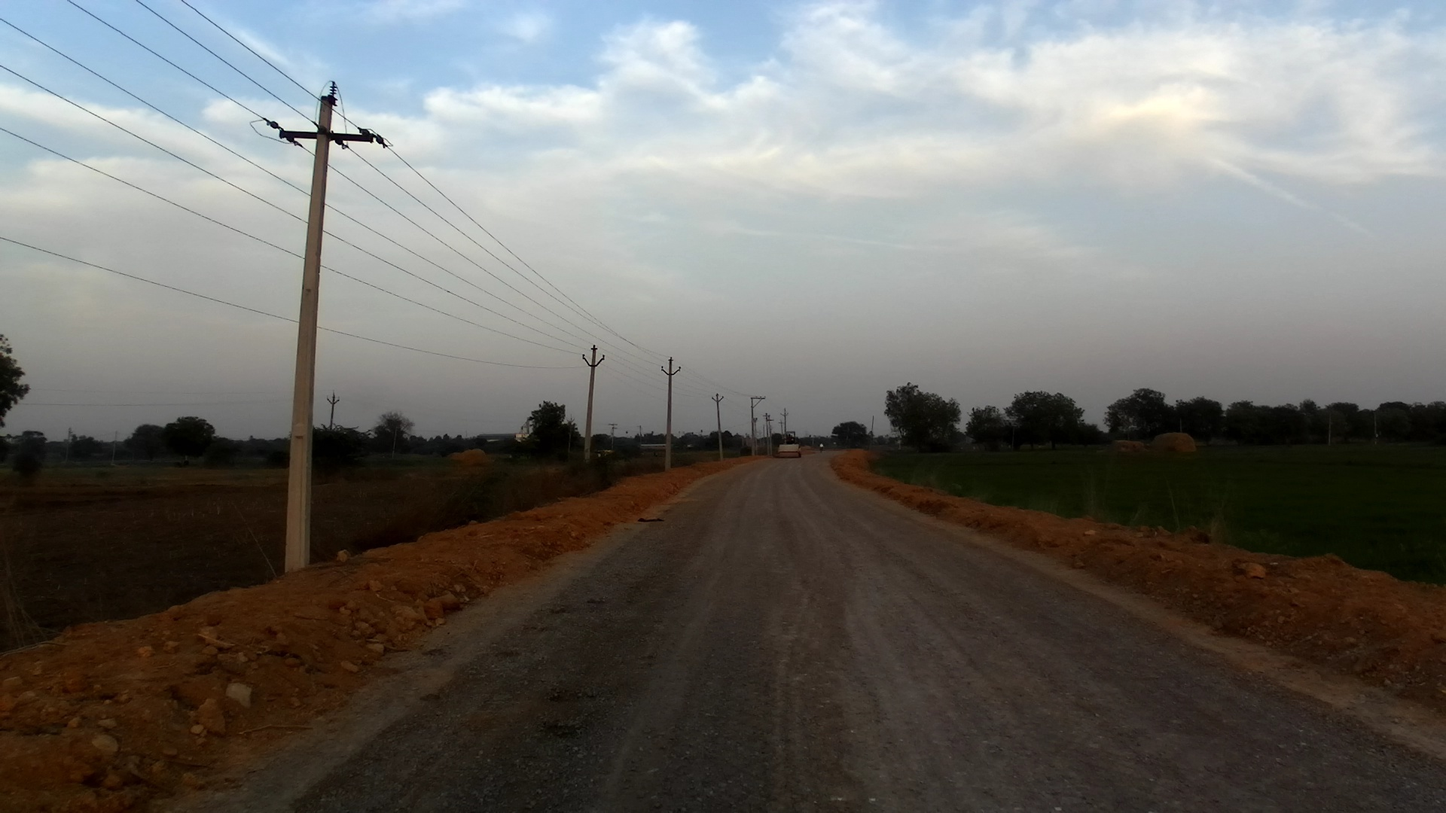car: (776, 443, 801, 460)
person: (816, 442, 825, 457)
